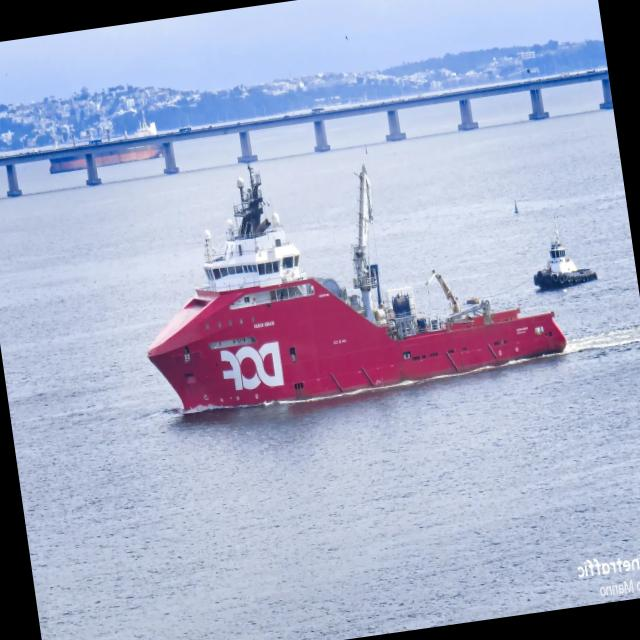Offshore: (148, 164, 566, 412)
Tug: (534, 225, 597, 289)
